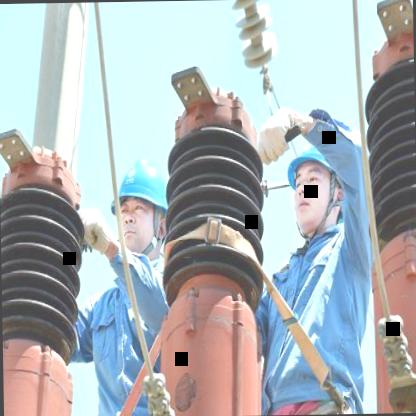helmet: (279, 120, 351, 239), (109, 150, 172, 262)
